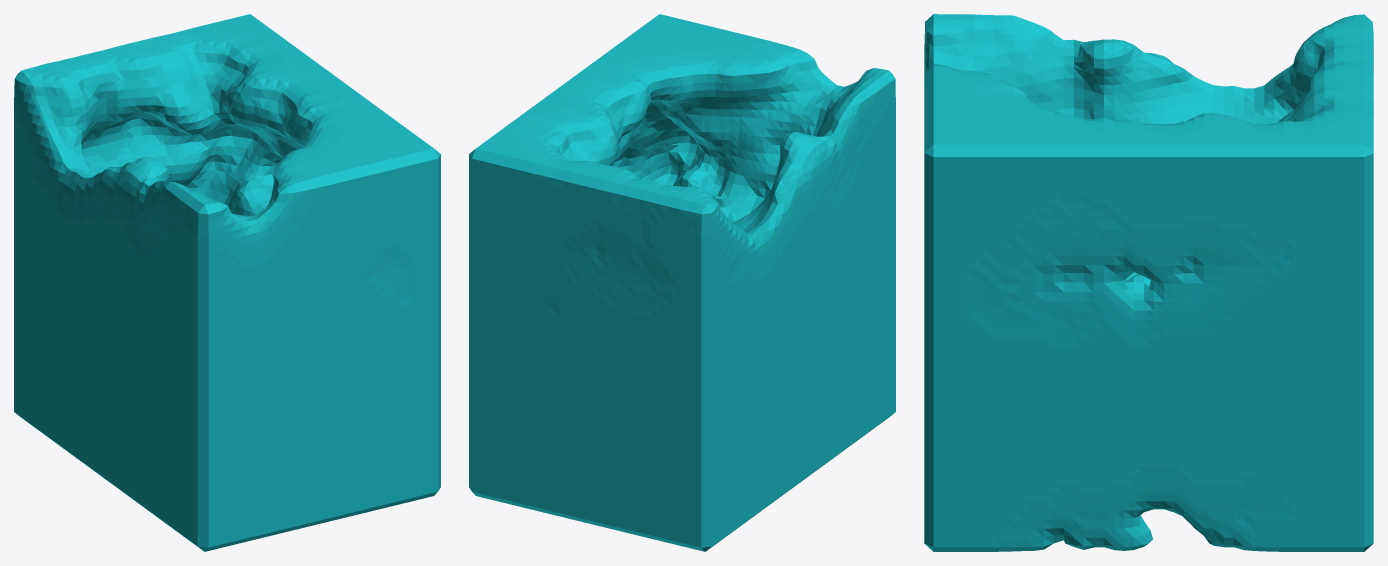
3 renders of one model, left to right at view 1: azimuth 30°, elevation 25°; view 2: azimuth 150°, elevation 25°; view 3: azimuth 270°, elevation 25°, orthographic. The views are drawn at different scales.
Visible parts, largest first — view 1: Liquid_Domain; view 2: Liquid_Domain; view 3: Liquid_Domain.
Part boxes in pixels (x1,y1,x2,y2): Liquid_Domain: (14, 14, 440, 551); Liquid_Domain: (469, 14, 895, 551); Liquid_Domain: (924, 14, 1373, 551).
Size of the model in its own units: 79.09 by 108 by 108.
